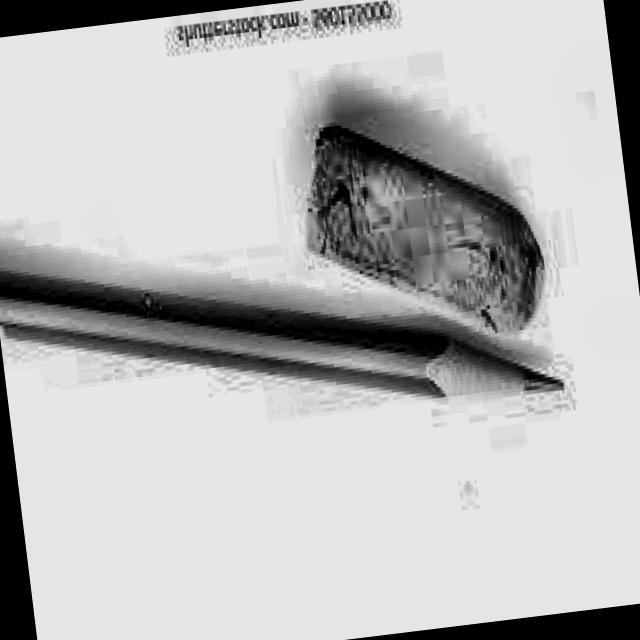eraser: (274, 98, 577, 310)
